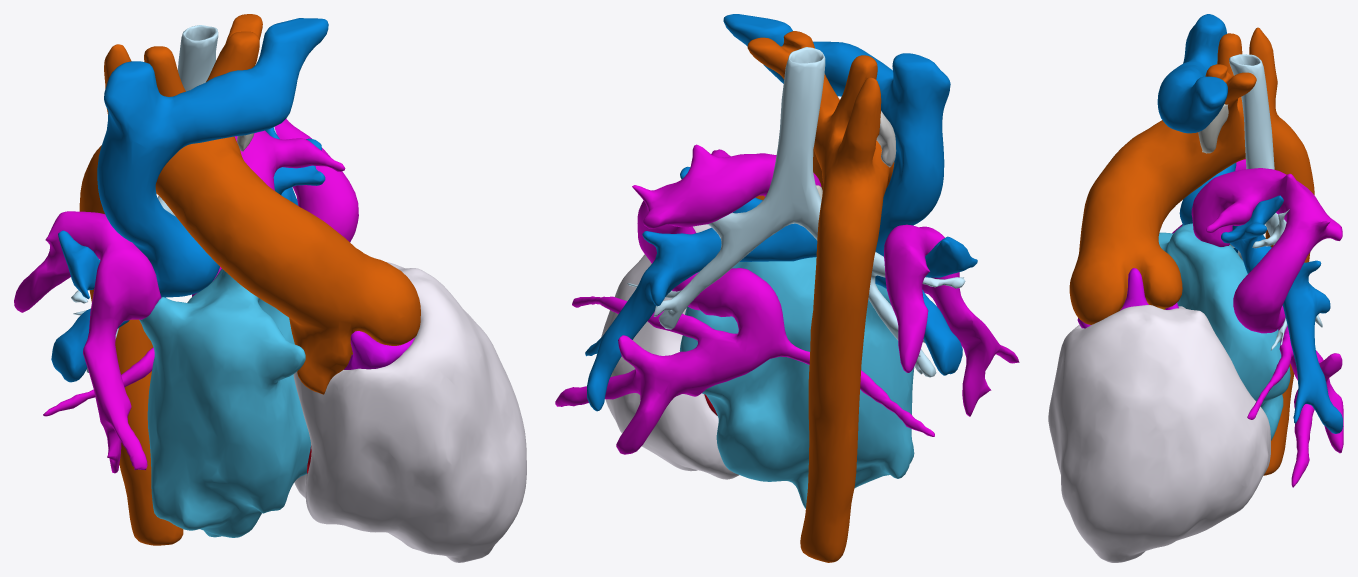
Rendered from Post BDG.gltf.
The picture shows the model from 3 angles, left to right: view 1: azimuth 30°, elevation 25°; view 2: azimuth 150°, elevation 25°; view 3: azimuth 270°, elevation 25°; orthographic projection. The views are drawn at different scales.
Visible parts, largest first — view 1: muslce, aorta, atrium, pa, pulmonary veins, trachea, aov; view 2: pulmonary veins, aorta, pa, atrium, trachea, muslce, BT2; view 3: muslce, aorta, pulmonary veins, pa, atrium, trachea, aov, BT1.
Boxes of the visible parts, x1=… form: muslce: x1=293, y1=262, x2=526, y2=562; aorta: x1=79, y1=14, x2=420, y2=545; atrium: x1=139, y1=269, x2=310, y2=537; pa: x1=51, y1=18, x2=328, y2=382; pulmonary veins: x1=14, y1=118, x2=358, y2=473; trachea: x1=71, y1=25, x2=276, y2=372; aov: x1=344, y1=331, x2=414, y2=369; pulmonary veins: x1=555, y1=144, x2=1019, y2=454; aorta: x1=747, y1=31, x2=894, y2=562; pa: x1=585, y1=14, x2=977, y2=411; atrium: x1=679, y1=257, x2=914, y2=508; trachea: x1=627, y1=47, x2=965, y2=377; muslce: x1=601, y1=224, x2=739, y2=479; BT2: x1=876, y1=111, x2=896, y2=167; muslce: x1=1048, y1=305, x2=1270, y2=562; aorta: x1=1069, y1=27, x2=1314, y2=475; pulmonary veins: x1=1172, y1=159, x2=1343, y2=487; pa: x1=1157, y1=14, x2=1342, y2=433; atrium: x1=1158, y1=223, x2=1290, y2=440; trachea: x1=1229, y1=54, x2=1322, y2=350; aov: x1=1077, y1=268, x2=1178, y2=328; BT1: x1=1198, y1=104, x2=1228, y2=153.
Bounding box in the file's own units: 96.1 × 117 × 73.99.
